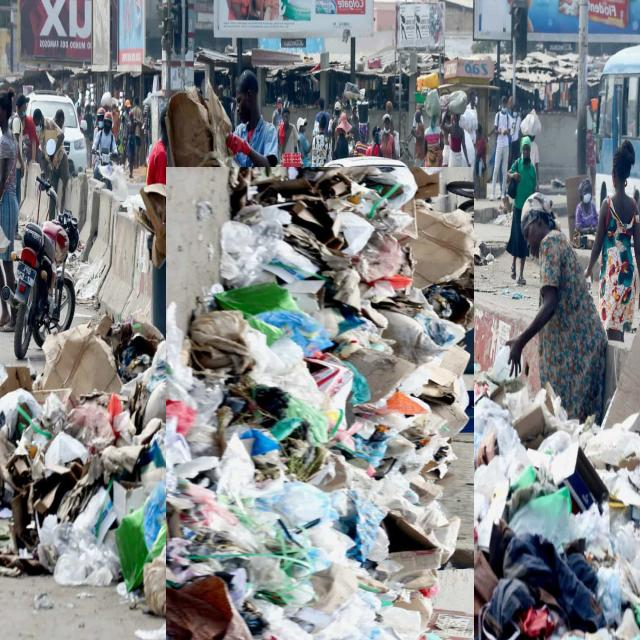garbage: (83, 249, 557, 640)
